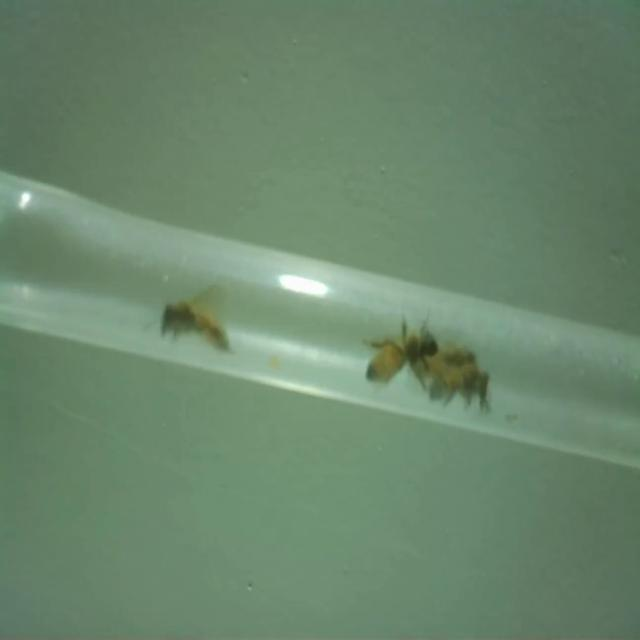Honeybee-Detection: (419, 319, 490, 412), (160, 280, 237, 355), (363, 316, 439, 390)
